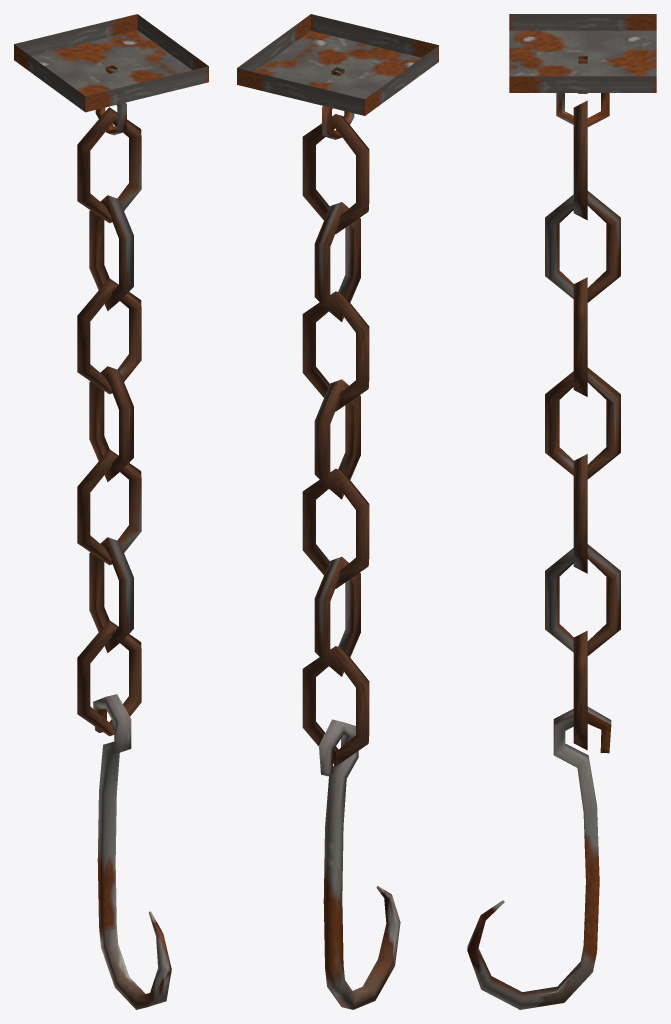
Rendered from meat_hook_chain.obj.
3 views of the same model, side by side, from view 1: azimuth 30°, elevation 25°; view 2: azimuth 150°, elevation 25°; view 3: azimuth 270°, elevation 25° (orthographic). The views are drawn at different scales.
Visible parts, largest first — view 1: meat_hook_chain; view 2: meat_hook_chain; view 3: meat_hook_chain.
Boxes of the visible parts, box(x1,y1,x2,y2) form: meat_hook_chain: box(14, 14, 208, 1009); meat_hook_chain: box(237, 14, 438, 1009); meat_hook_chain: box(467, 14, 656, 1009).
Bounding box in the file's own units: 0.12 × 0.865 × 0.1542.
Materials: 1 (1 with a texture image).
